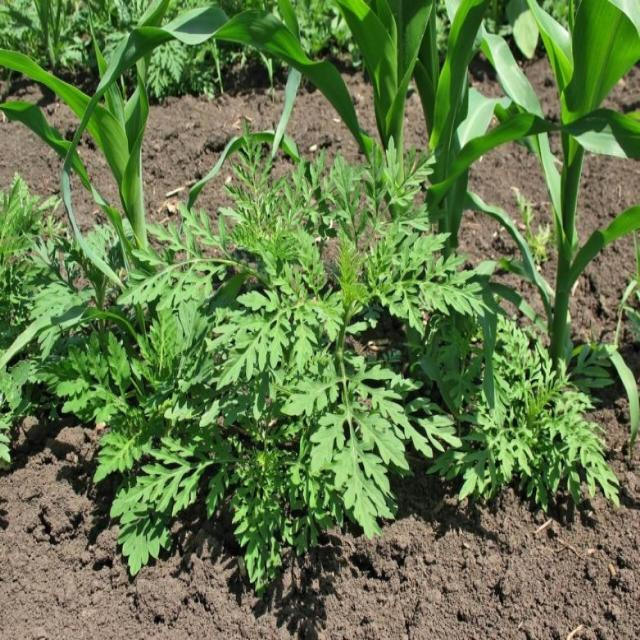ambrosia: (474, 305, 616, 534), (306, 311, 441, 525), (101, 396, 248, 568), (348, 136, 474, 332)
